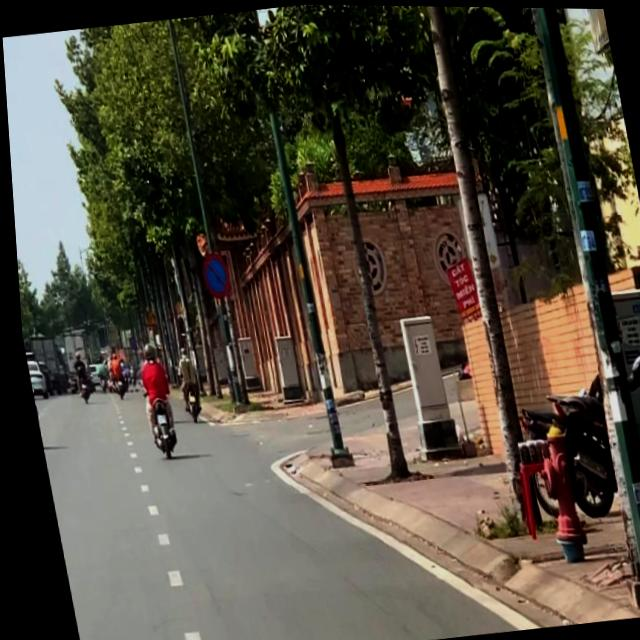Cam do xe: (193, 248, 234, 304)
cho ngoat nguy hiem vong ben phai: (138, 307, 154, 328)
